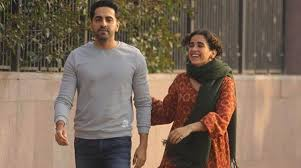Bad: (53, 1, 236, 168)
